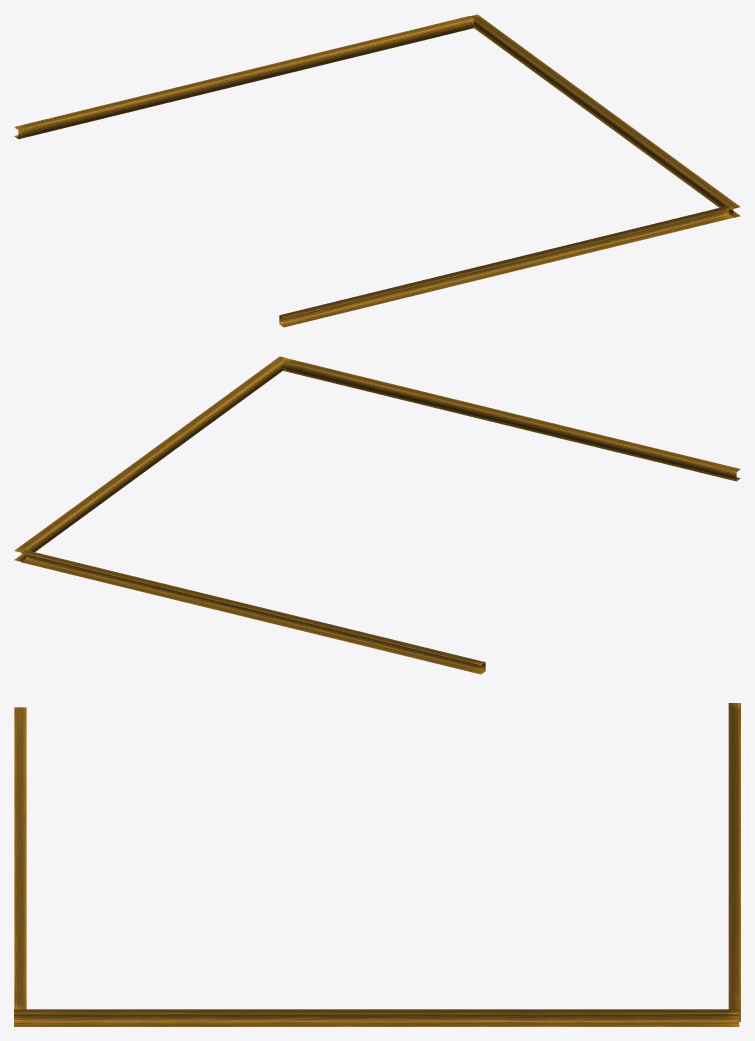
Rendered from HTOWN01_MILLINTRAFTERS-WALK.fbx.
3 views of the same model, one above another, from view 1: azimuth 30°, elevation 25°; view 2: azimuth 150°, elevation 25°; view 3: azimuth 270°, elevation 25° (orthographic). The views are drawn at different scales.
Parts seen in each view (by area): view 1: HTOWN01_MILLINTRAFTERS-WALK; view 2: HTOWN01_MILLINTRAFTERS-WALK; view 3: HTOWN01_MILLINTRAFTERS-WALK.
Boxes of the visible parts, x1=… form: HTOWN01_MILLINTRAFTERS-WALK: x1=14, y1=14, x2=740, y2=327; HTOWN01_MILLINTRAFTERS-WALK: x1=14, y1=356, x2=740, y2=674; HTOWN01_MILLINTRAFTERS-WALK: x1=14, y1=703, x2=740, y2=1026.
Bounding box in the file's own units: 127627 × 2395 × 125897.
Materials: 1 (1 with a texture image).
